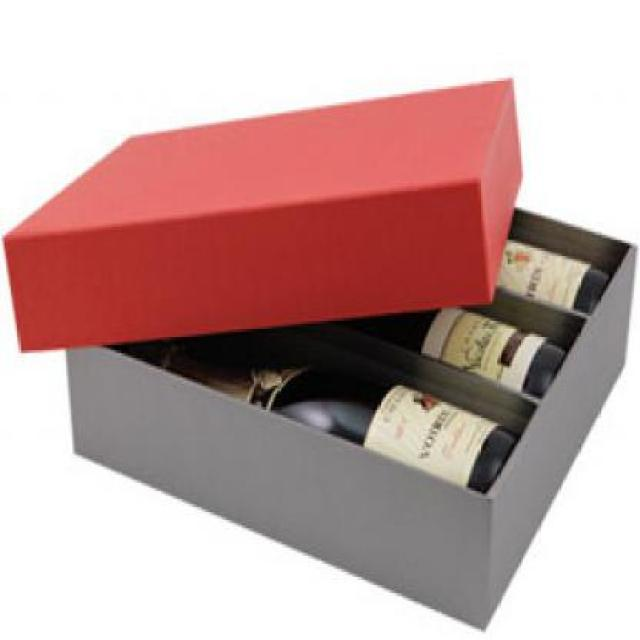box: (5, 60, 637, 640)
